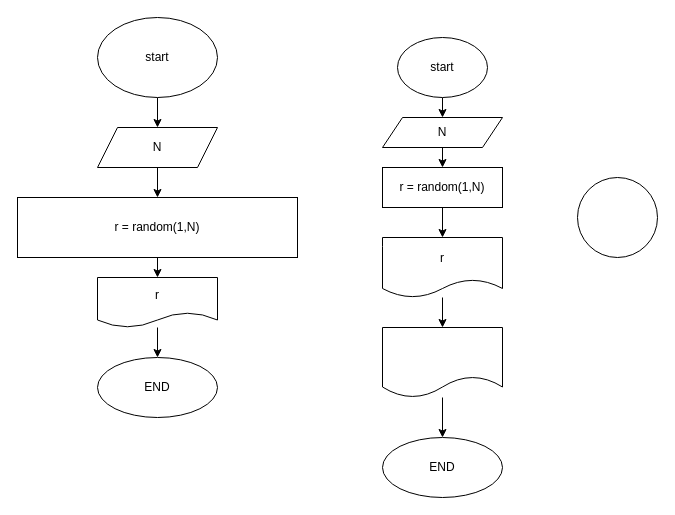
Some shapes in this 675 by 515 pixel diagram are drawn without their labels. Here are the shapes that lost their labels. From the top down, the centre of each, then its label:
At (x=617, y=217): "начало".
At (x=442, y=362): "r = r * r".
